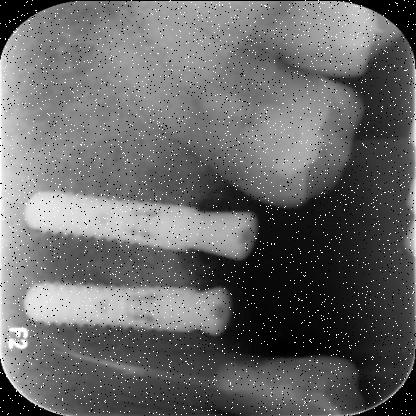ITI: (28, 188, 194, 242), (27, 282, 197, 329)
